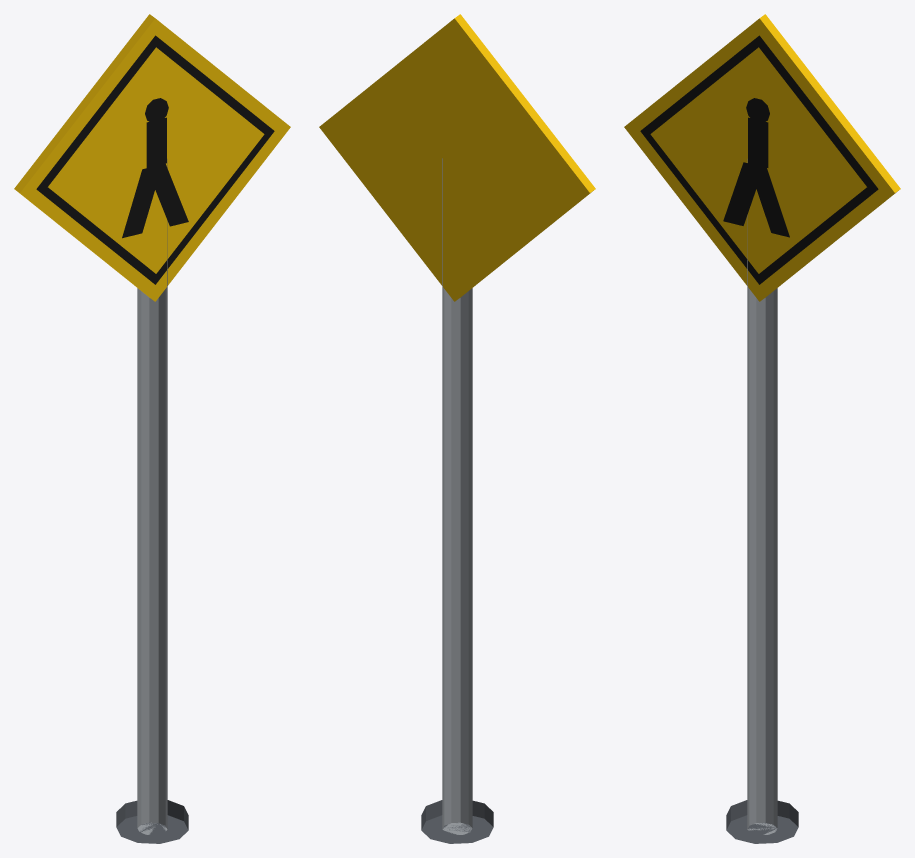
Rendered from sign-pedestrian.glb.
3 views of the same model, side by side, from view 1: azimuth 30°, elevation 25°; view 2: azimuth 150°, elevation 25°; view 3: azimuth 330°, elevation 25° (orthographic).
Visible parts, largest first — view 1: sign-pedestrian; view 2: sign-pedestrian; view 3: sign-pedestrian.
Boxes of the visible parts, <box> form: sign-pedestrian: <box>14,14,290,843</box>; sign-pedestrian: <box>319,14,595,843</box>; sign-pedestrian: <box>624,14,900,843</box>.
Bounding box in the file's own units: 0.93 × 2.66 × 0.2054.
